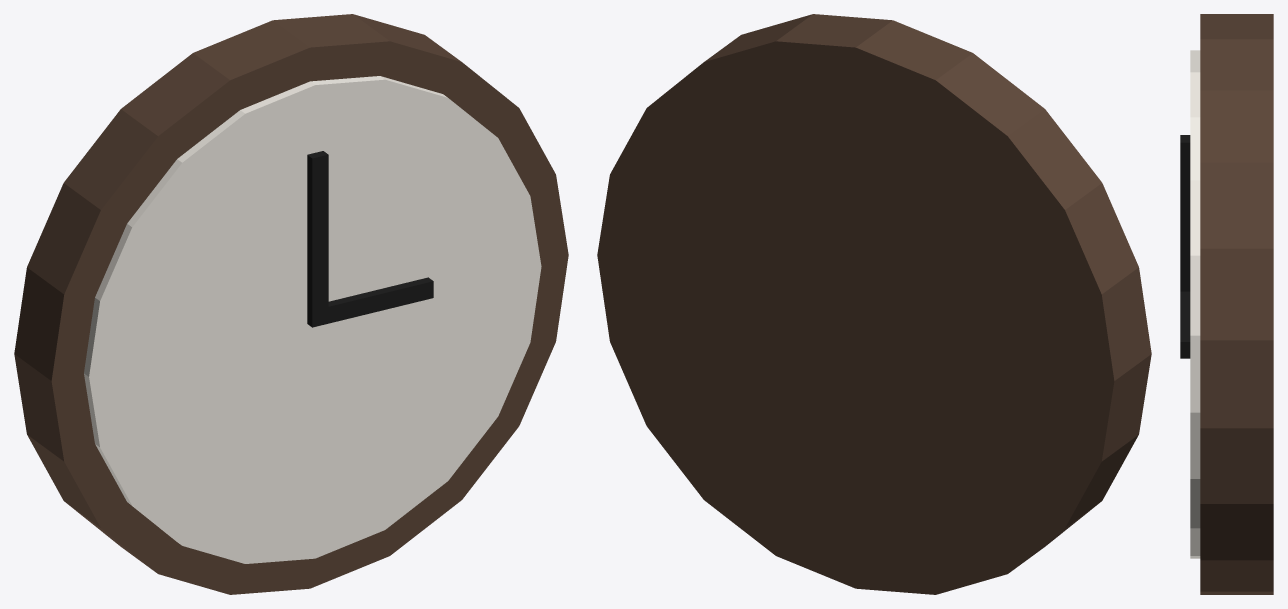
The model's file is wall_clock.fbx.
The picture shows the model from 3 angles, left to right: view 1: azimuth 30°, elevation 25°; view 2: azimuth 150°, elevation 25°; view 3: azimuth 270°, elevation 25°; orthographic projection. The views are drawn at different scales.
Parts seen in each view (by area): view 1: wall_clock; view 2: wall_clock; view 3: wall_clock.
Part boxes in pixels (box(x1,y1,x2,y2)): wall_clock: box(14, 14, 568, 594); wall_clock: box(597, 14, 1151, 594); wall_clock: box(1180, 14, 1273, 594).
Bounding box in the file's own units: 0.32 × 0.32 × 0.051.
